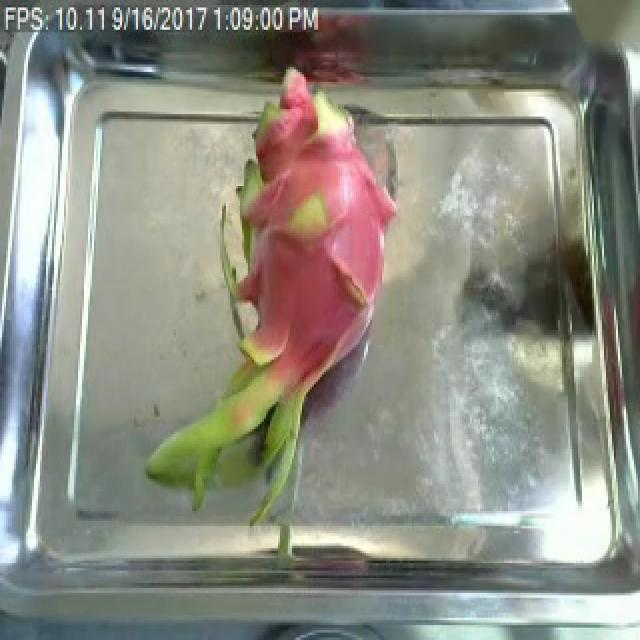fruit: (142, 99, 388, 526)
